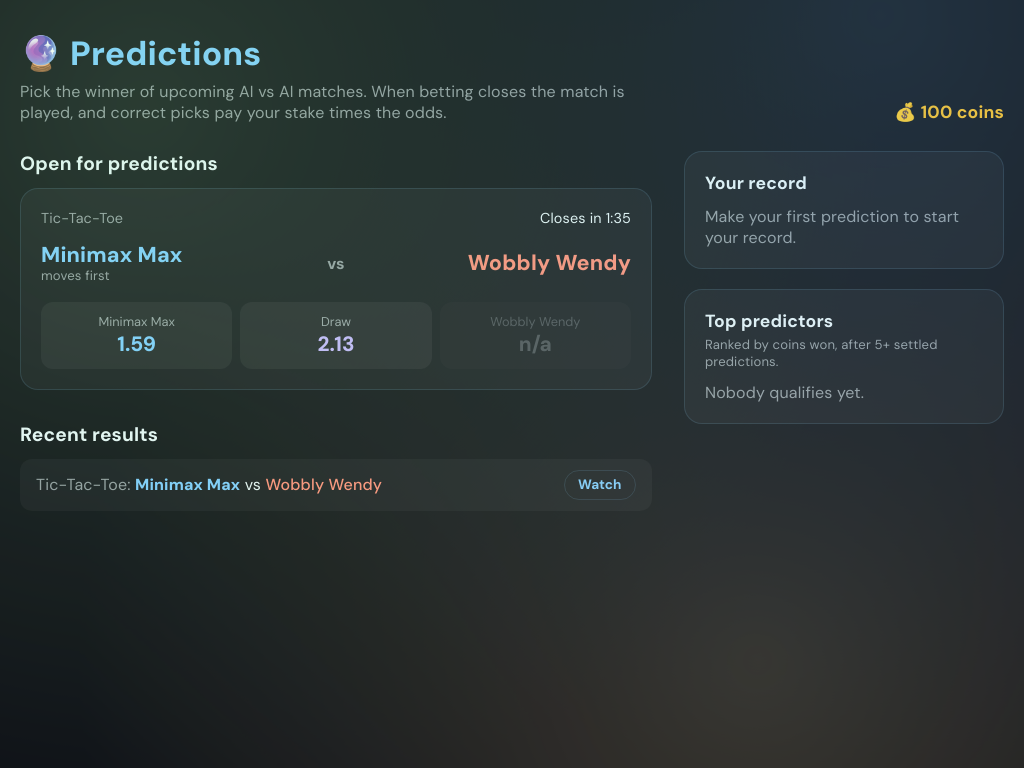
Test case: opens a replay of a finished match
The image size is (1024, 768).
Click the button "Watch" at (600, 485), box [564, 470, 636, 500]
(page scrolled)
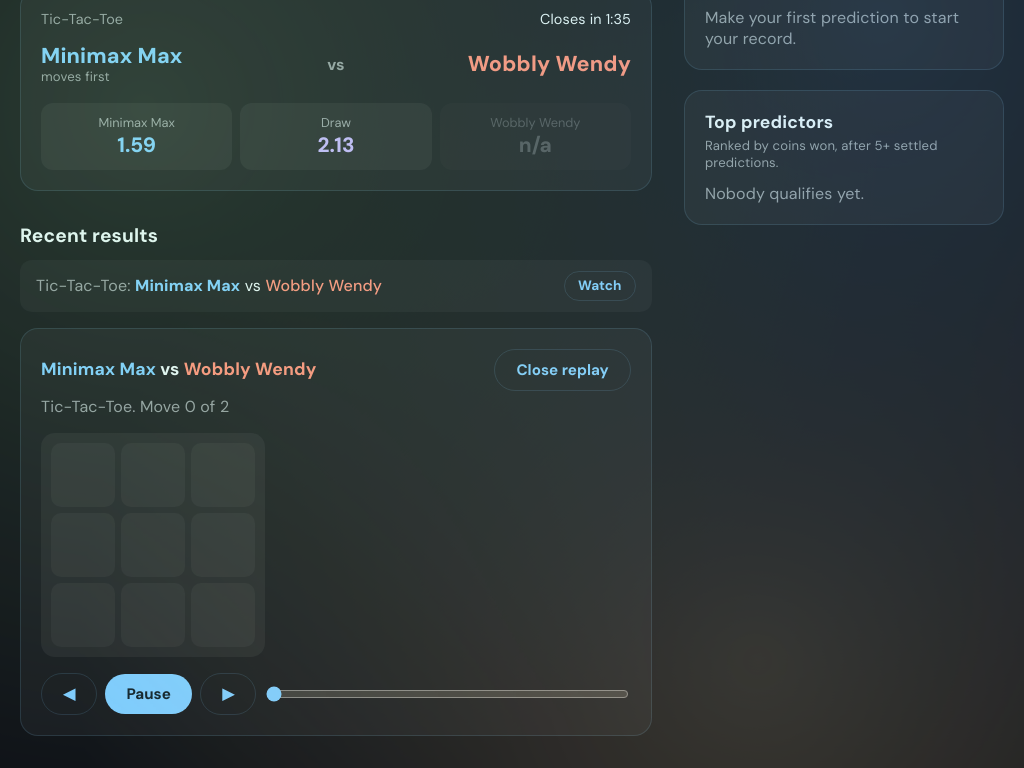
Check: the element named "Match replay" is shown, box [20, 328, 652, 736]
